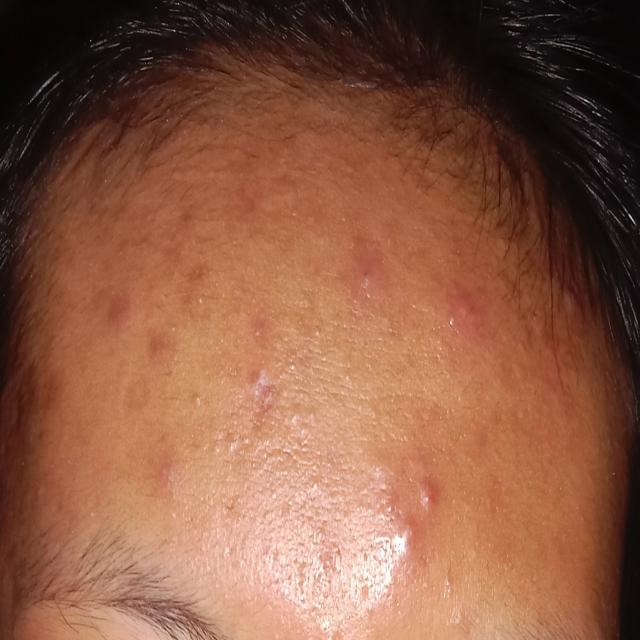fungal: (102, 164, 319, 501)
